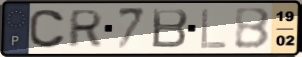7: (117, 6, 147, 52)
B: (233, 6, 273, 51), (151, 7, 191, 50)
C: (28, 8, 68, 50)
L: (199, 7, 229, 51)
R: (66, 8, 105, 50)
